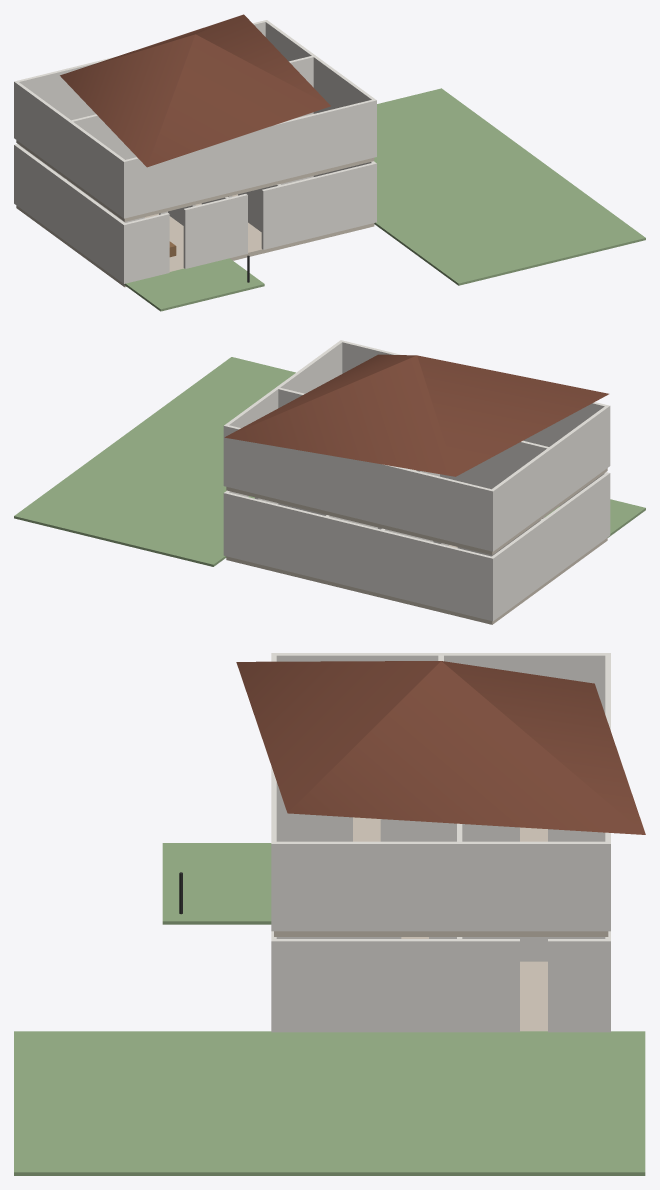
File: house.glb
The picture shows the model from 3 angles, top to bottom: view 1: azimuth 30°, elevation 25°; view 2: azimuth 150°, elevation 25°; view 3: azimuth 270°, elevation 25°; orthographic projection. The views are drawn at different scales.
Visible parts, largest first — view 1: slab:garden, level1, roof, level0, slab:terrace, slab:living_room, slab:kids_room, slab:hall; view 2: level1, roof, level0, slab:garden, slab:terrace, slab:master_bedroom, slab:bedroom, slab:bathroom_2, slab:utility; view 3: slab:garden, roof, level1, level0, slab:terrace, slab:utility, slab:office, slab:landing, slab:bathroom_2.
Part boxes in pixels (x1,y1,x2,y2): slab:garden: [374, 88, 645, 285]; level1: [14, 20, 376, 218]; roof: [60, 14, 330, 167]; level0: [14, 144, 376, 283]; slab:terrace: [124, 258, 264, 311]; slab:living_room: [64, 216, 183, 287]; slab:kids_room: [70, 180, 228, 221]; slab:hall: [230, 222, 280, 260]; level1: [223, 340, 610, 551]; roof: [224, 354, 608, 476]; level0: [223, 472, 610, 621]; slab:garden: [14, 357, 295, 566]; slab:terrace: [544, 499, 645, 537]; slab:master_bedroom: [381, 510, 549, 555]; slab:bedroom: [381, 584, 543, 624]; slab:bathroom_2: [226, 487, 325, 514]; slab:utility: [226, 556, 325, 584]; slab:garden: [14, 1031, 645, 1175]; roof: [236, 661, 645, 834]; level1: [271, 653, 610, 931]; level0: [271, 931, 610, 1032]; slab:terrace: [162, 843, 271, 924]; slab:utility: [520, 961, 547, 1031]; slab:office: [274, 931, 459, 936]; slab:landing: [353, 820, 547, 841]; slab:bathroom_2: [459, 931, 608, 936].
Bounding box in the file's own units: 21.08 × 8.4 × 17.02.
